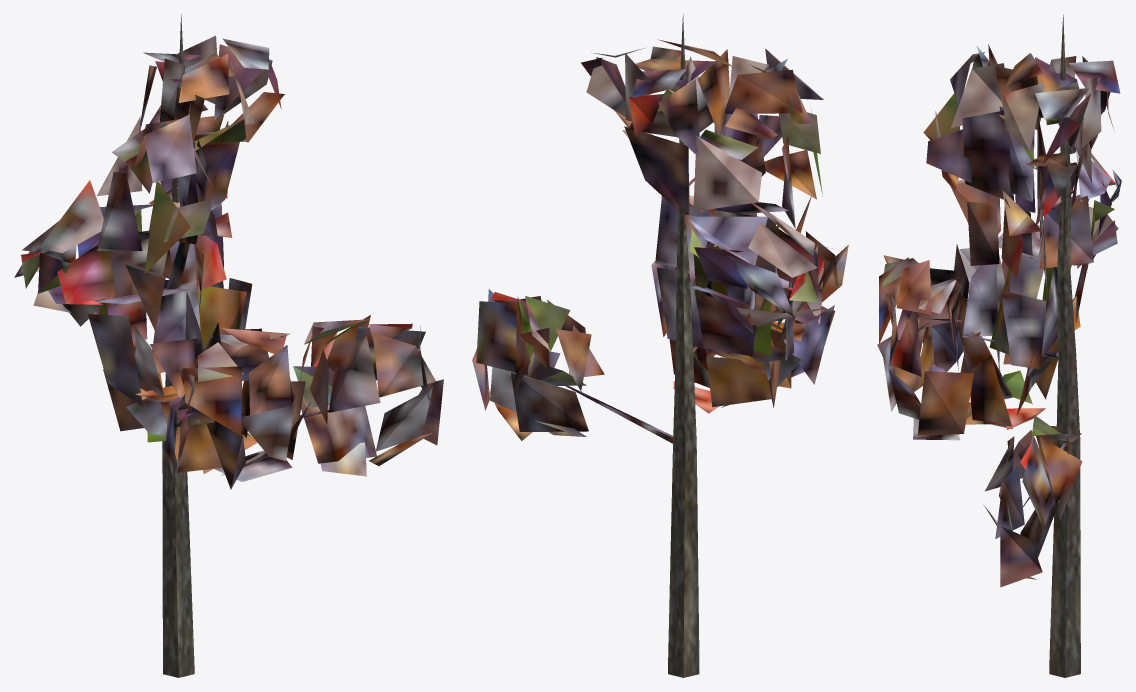
The model's file is Tree05.fbx.
3 renders of one model, left to right at view 1: azimuth 30°, elevation 25°; view 2: azimuth 150°, elevation 25°; view 3: azimuth 270°, elevation 25°, orthographic.
Parts seen in each view (by area): view 1: Tree05; view 2: Tree05; view 3: Tree05.
Boxes of the visible parts, x1,y1,x2,y2 form: Tree05: [14, 14, 443, 677]; Tree05: [472, 14, 848, 677]; Tree05: [877, 14, 1121, 677].
Size of the model in its own units: 661 by 1096 by 370.
